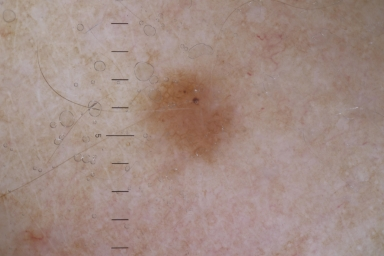nevus: (152, 74, 239, 164)
